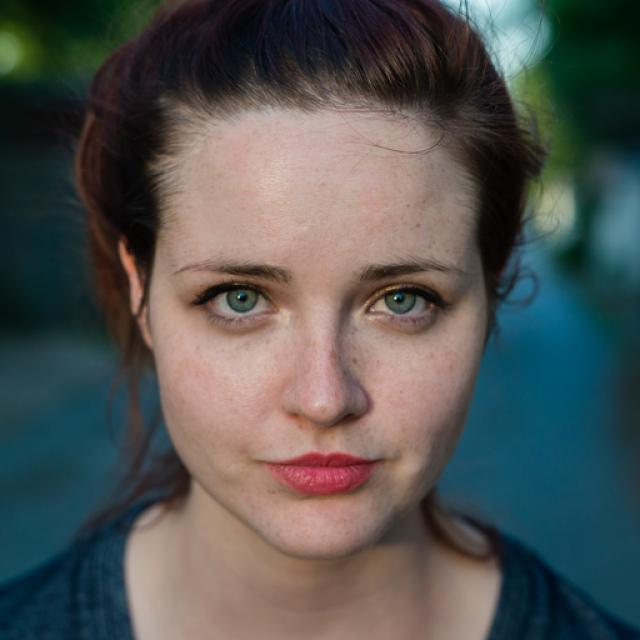content: (151, 91, 490, 559)
